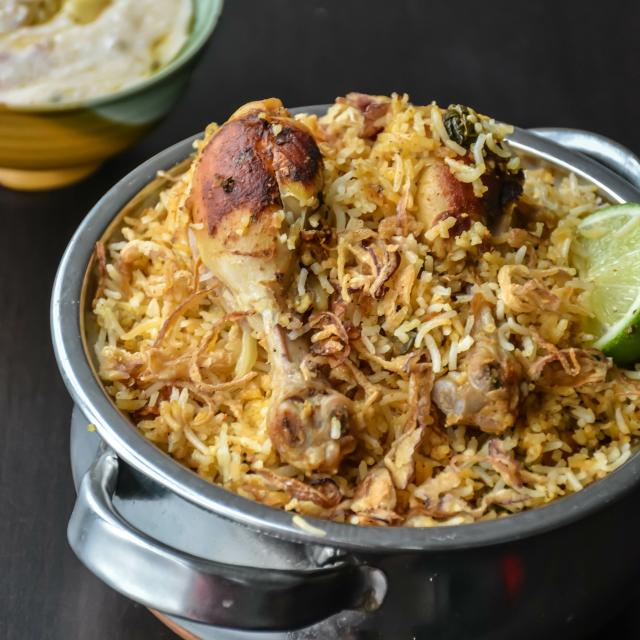Biryani: (90, 88, 640, 525)
